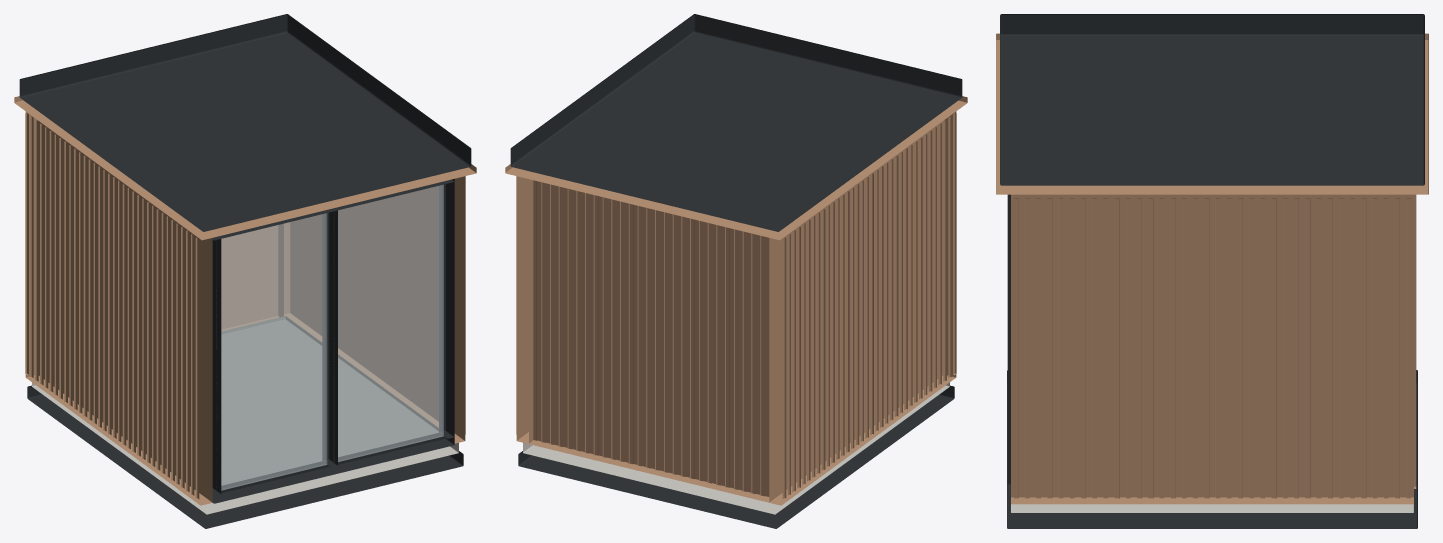
The model's file is mobup-studio-p2-m7.glb.
3 views of the same model, side by side, from view 1: azimuth 30°, elevation 25°; view 2: azimuth 150°, elevation 25°; view 3: azimuth 270°, elevation 25° (orthographic). The views are drawn at different scales.
Parts seen in each view (by area): view 1: Mobup_cedar, Mobup_graphite, Mobup_glass, Mobup_floor, Mobup_mineral; view 2: Mobup_cedar, Mobup_graphite, Mobup_mineral; view 3: Mobup_cedar, Mobup_graphite, Mobup_mineral.
Boxes of the visible parts, box(x1,y1,x2,y2) form: Mobup_cedar: box(14, 96, 476, 505); Mobup_graphite: box(19, 14, 471, 528); Mobup_glass: box(216, 184, 443, 490); Mobup_floor: box(221, 316, 438, 485); Mobup_mineral: box(32, 382, 458, 514); Mobup_cedar: box(505, 96, 967, 505); Mobup_graphite: box(510, 14, 962, 528); Mobup_mineral: box(523, 382, 949, 514); Mobup_cedar: box(996, 33, 1428, 504); Mobup_graphite: box(1000, 14, 1424, 528); Mobup_mineral: box(1011, 504, 1413, 512).
Size of the model in its own units: 2.72 by 3.02 by 3.22.
